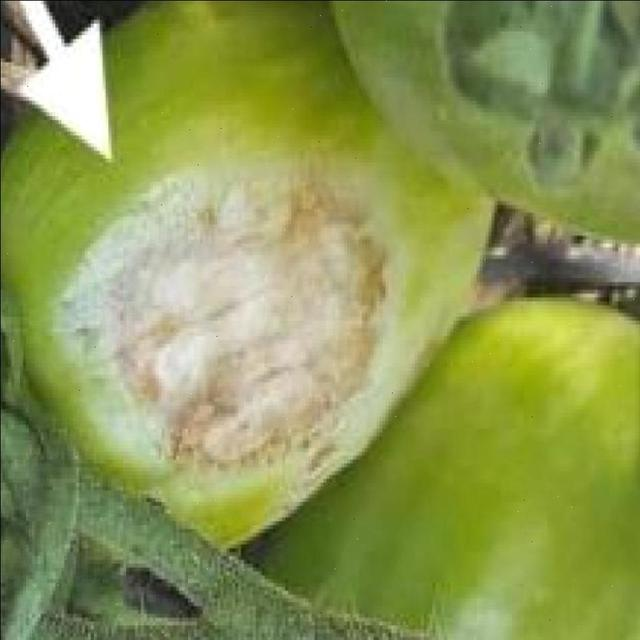Sunscald Fruit: (34, 94, 276, 333)
